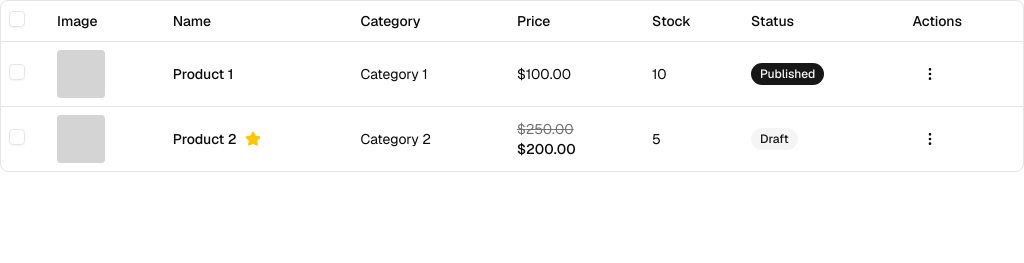
Test: ProductsTable › handles select one functionality
What coordinates should you click on to do the following:
click the checkbox named "Select row" next to "Product 1"
I would click on:
 (17, 72)
Its box is [9,64,25,80].
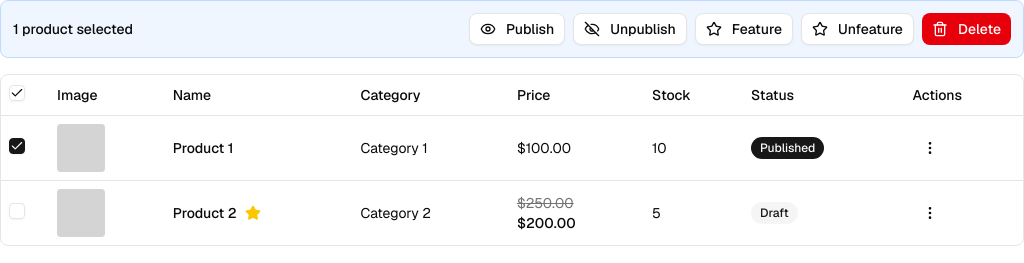
Expected: the checkbox named "Select row" next to "Product 2" is not checked, [9,202,25,218]
Expected: the checkbox named "Select row" next to "Product 1" is checked, [9,138,25,154]
Expected: the text "1 product selected" is shown, [13,19,133,39]
